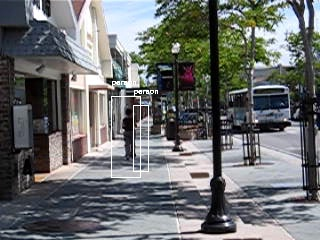person: (121, 107, 139, 160), (120, 107, 138, 160), (122, 107, 140, 160), (121, 106, 139, 159), (121, 108, 139, 161)
target_negative: (114, 188, 307, 218), (196, 13, 221, 229), (141, 219, 219, 237), (150, 118, 217, 131), (70, 236, 288, 238), (300, 33, 302, 116)
